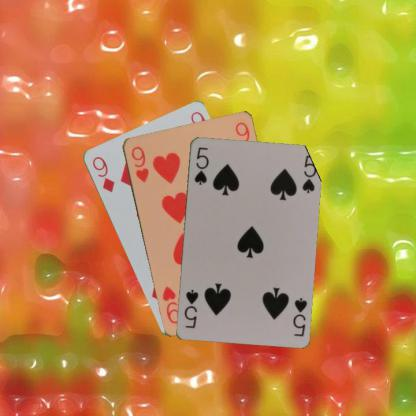5s: (290, 294, 308, 338), (192, 144, 210, 186)
9d: (89, 154, 116, 194)
9h: (128, 143, 150, 184)
